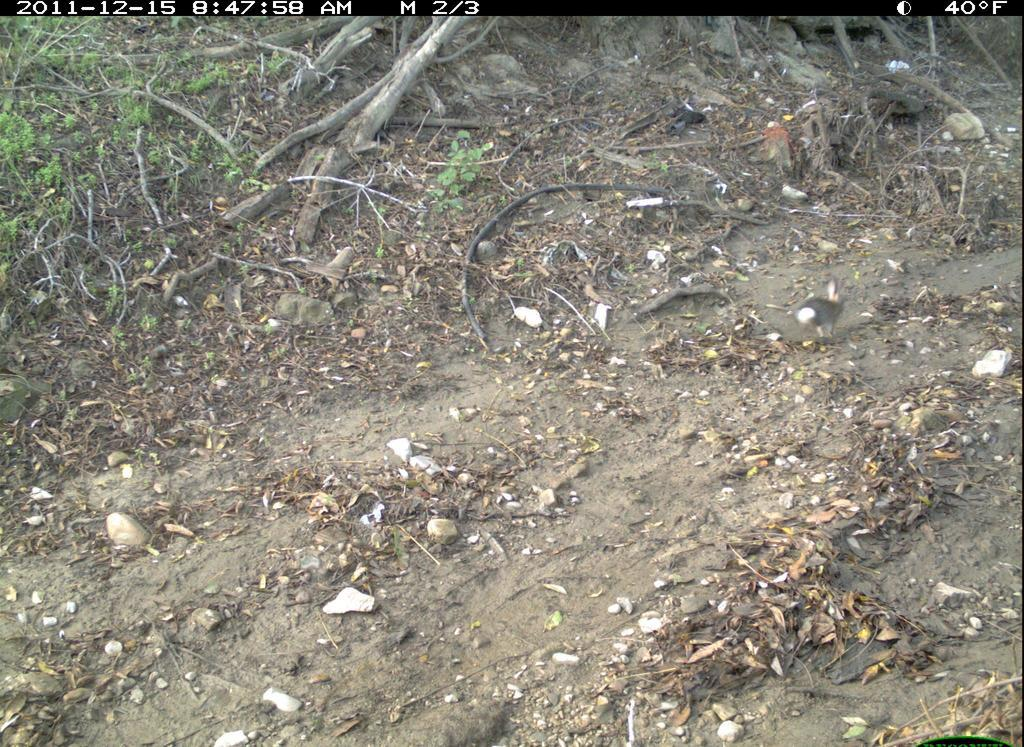rabbit: (785, 281, 857, 337)
